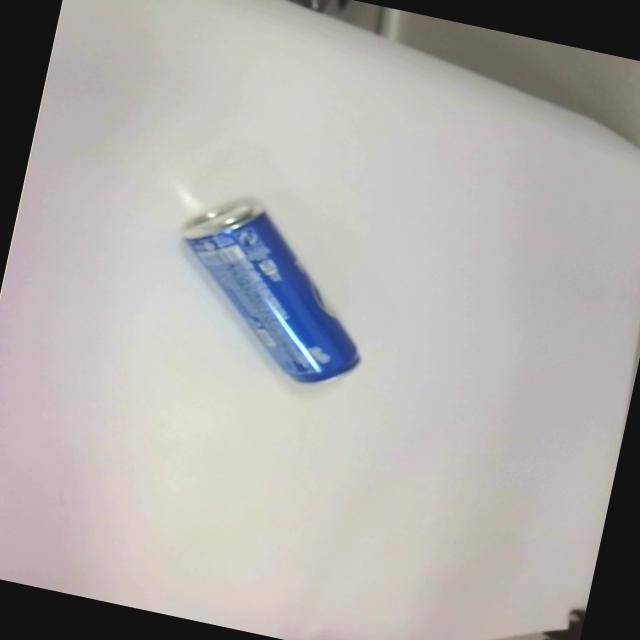debris: (158, 194, 386, 394)
